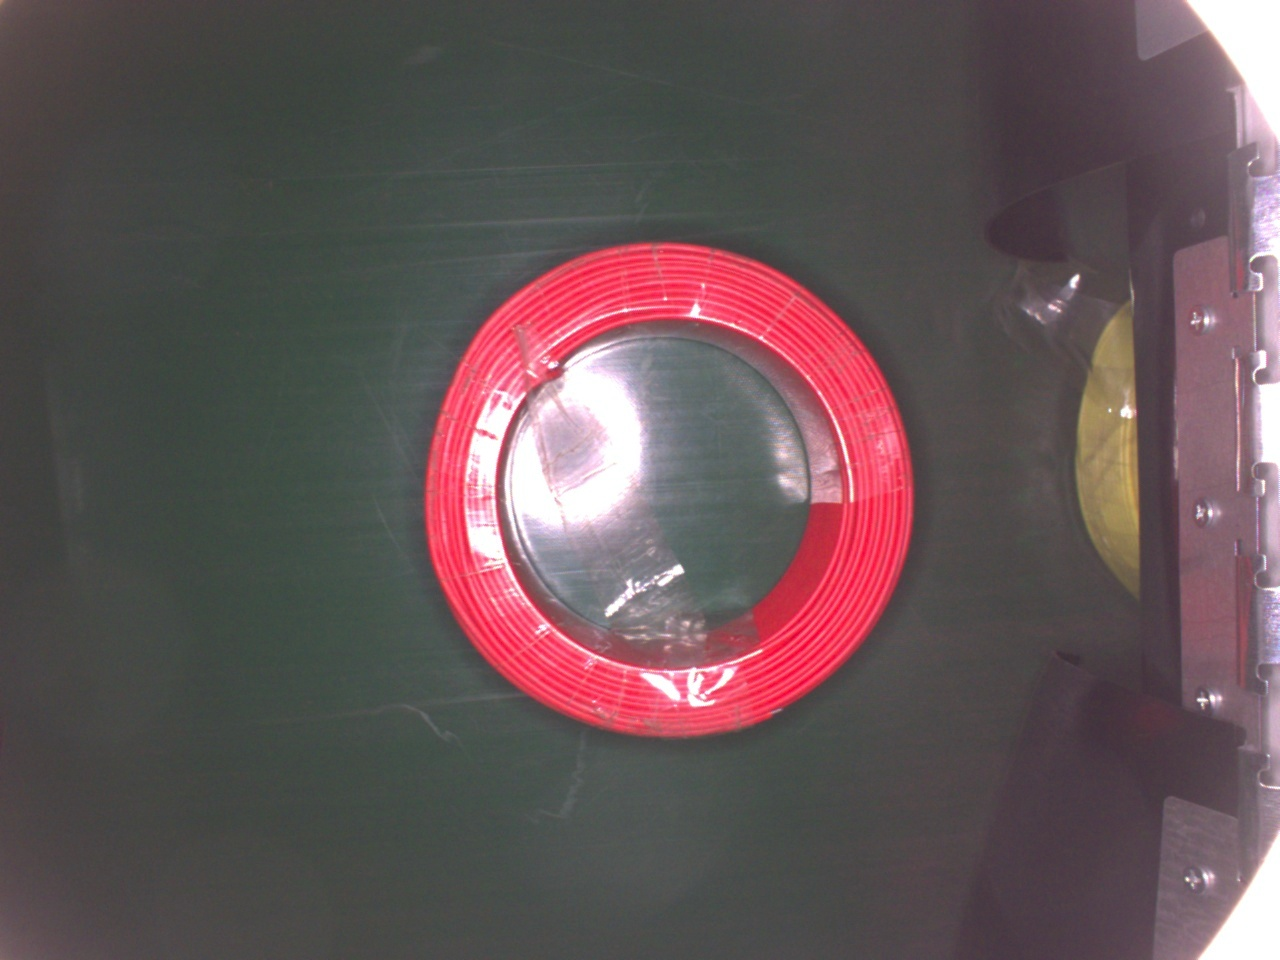red: (411, 236, 933, 752)
